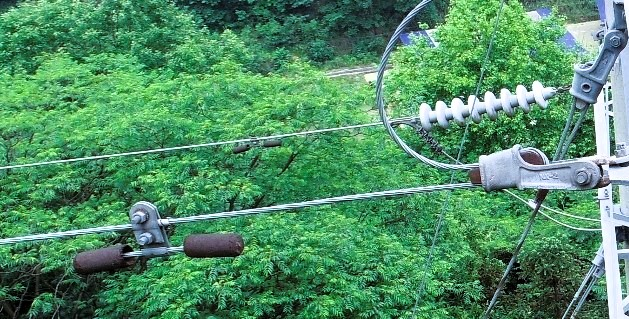Shockproof hammer: (63, 193, 254, 278)
